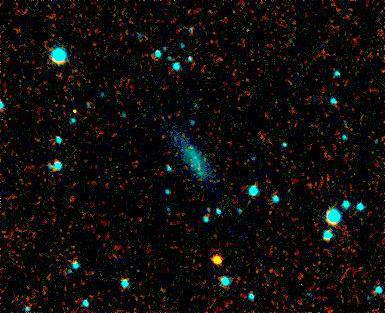star: (201, 245, 231, 275)
